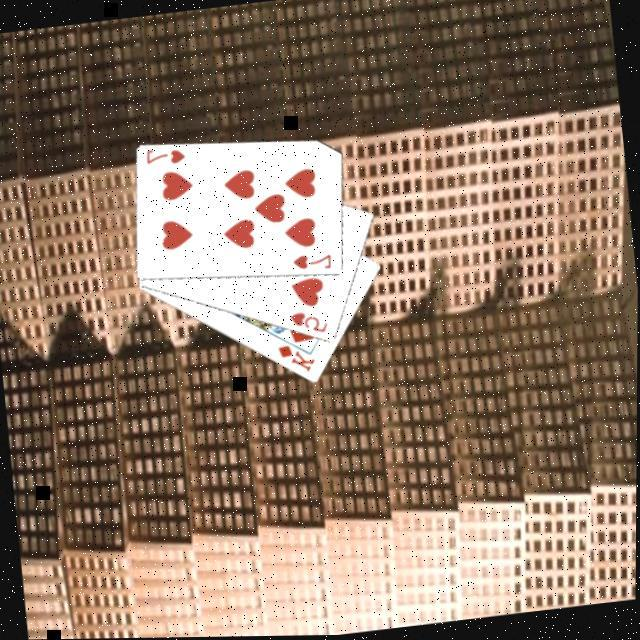5H: (284, 307, 329, 341)
7H: (287, 251, 333, 278), (141, 144, 187, 171)
KD: (272, 341, 317, 380)
